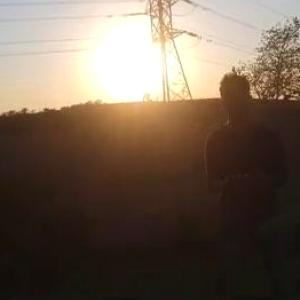follow: (202, 70, 296, 299)
